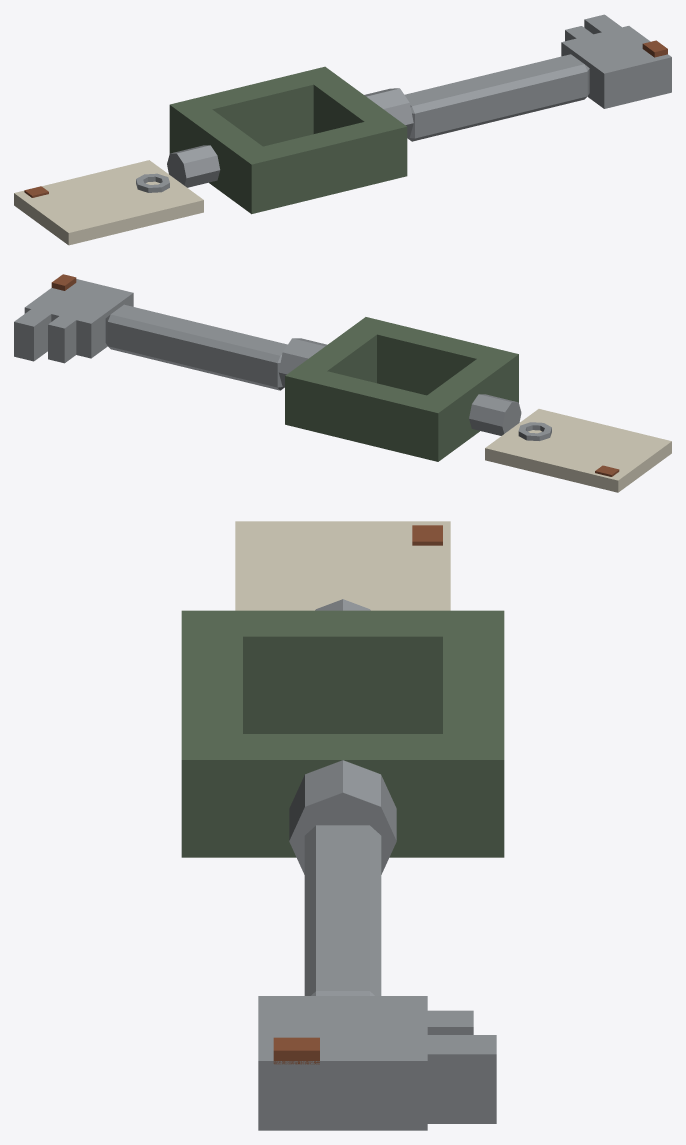
Rendered from maintenance_key_woodland.glb.
3 views of the same model, one above another, from view 1: azimuth 30°, elevation 25°; view 2: azimuth 150°, elevation 25°; view 3: azimuth 270°, elevation 25° (orthographic). The views are drawn at different scales.
Parts seen in each view (by area): view 1: Key_Body; view 2: Key_Body; view 3: Key_Body.
Boxes of the visible parts, x1,y1,x2,y2 form: Key_Body: (14, 14, 671, 245); Key_Body: (14, 274, 671, 492); Key_Body: (181, 521, 504, 1130).
Bounding box in the file's own units: 0.18 × 0.014 × 0.042.
